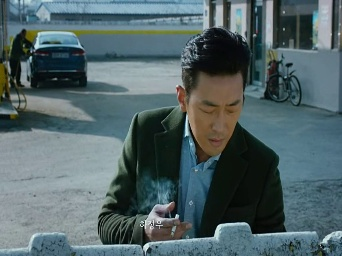smoke: (169, 212, 180, 237)
